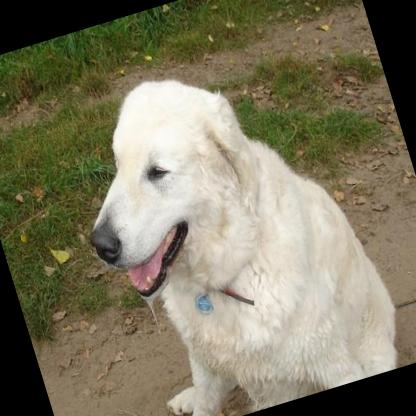kuvasz: (46, 26, 412, 416)
